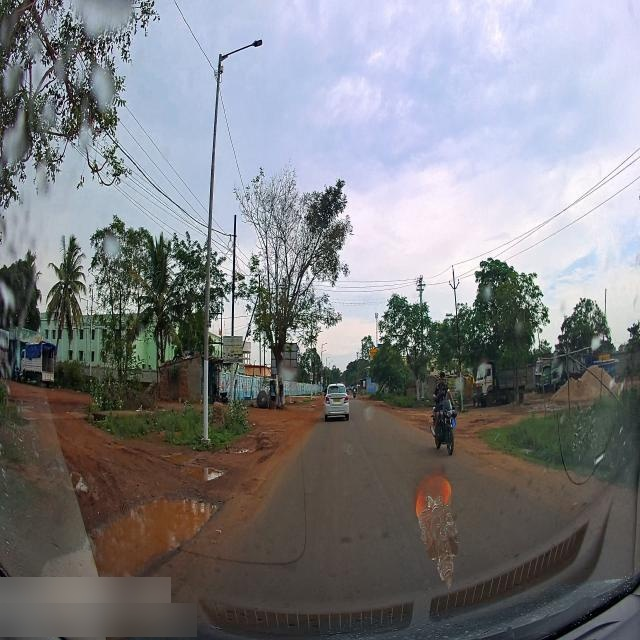pothole: (32, 498, 220, 580), (178, 462, 227, 488), (220, 440, 262, 456), (15, 397, 34, 415)
